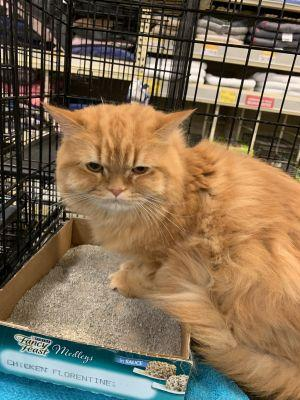persian: (35, 91, 199, 223)
